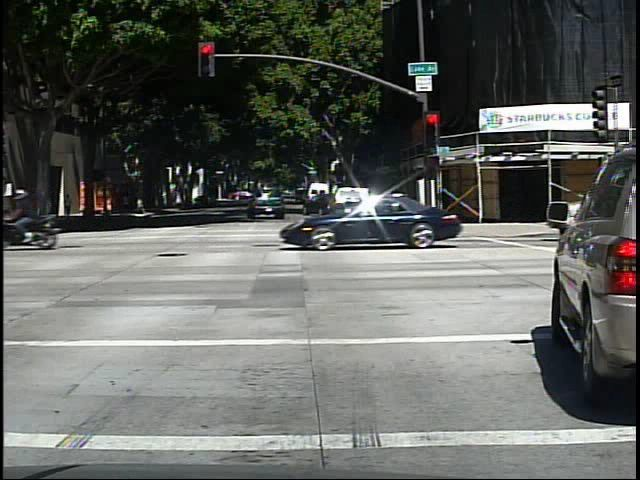person: (22, 184, 60, 245), (64, 191, 74, 220)
